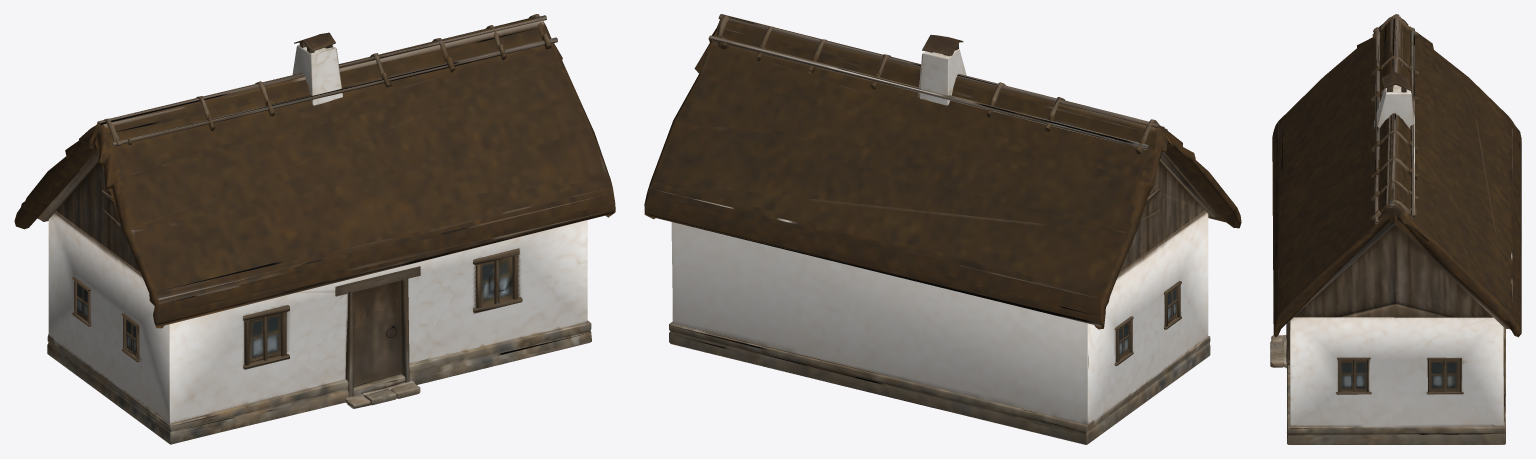
The model's file is ferme-morave.glb.
3 views of the same model, side by side, from view 1: azimuth 30°, elevation 25°; view 2: azimuth 150°, elevation 25°; view 3: azimuth 270°, elevation 25° (orthographic). The views are drawn at different scales.
Visible parts, largest first — view 1: geometry_0; view 2: geometry_0; view 3: geometry_0.
Part boxes in pixels (left/top/right/bottom): geometry_0: left=14, top=14, right=615, bottom=444; geometry_0: left=644, top=14, right=1241, bottom=444; geometry_0: left=1270, top=14, right=1521, bottom=444.
Size of the model in its own units: 0.9551 by 0.6187 by 0.5093.
Materials: 1 (1 with a texture image).
